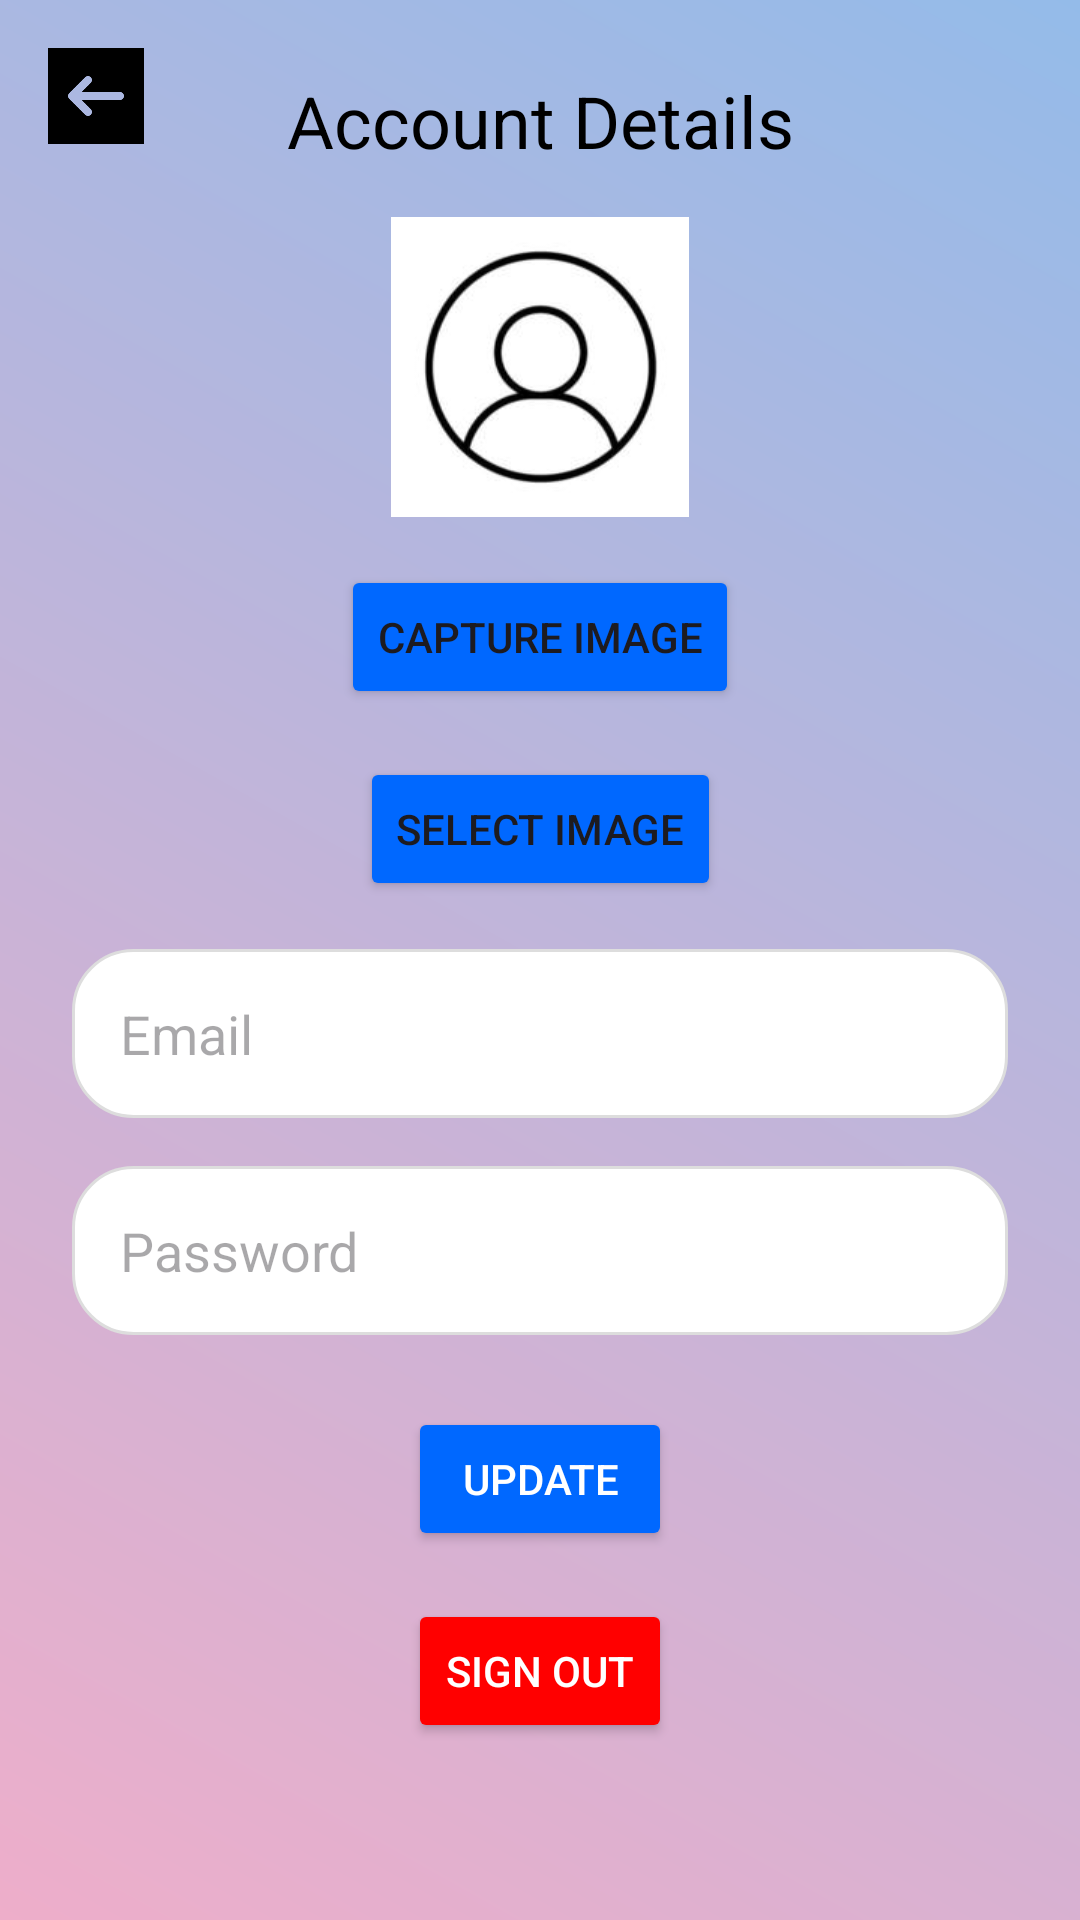

Icon bounding boxes for this 1080*1920 phone screenshot, format bbox=(x1, y1, x2, y2):
Back: bbox=(48, 48, 144, 144)
Profile Image: bbox=(391, 217, 689, 517)
